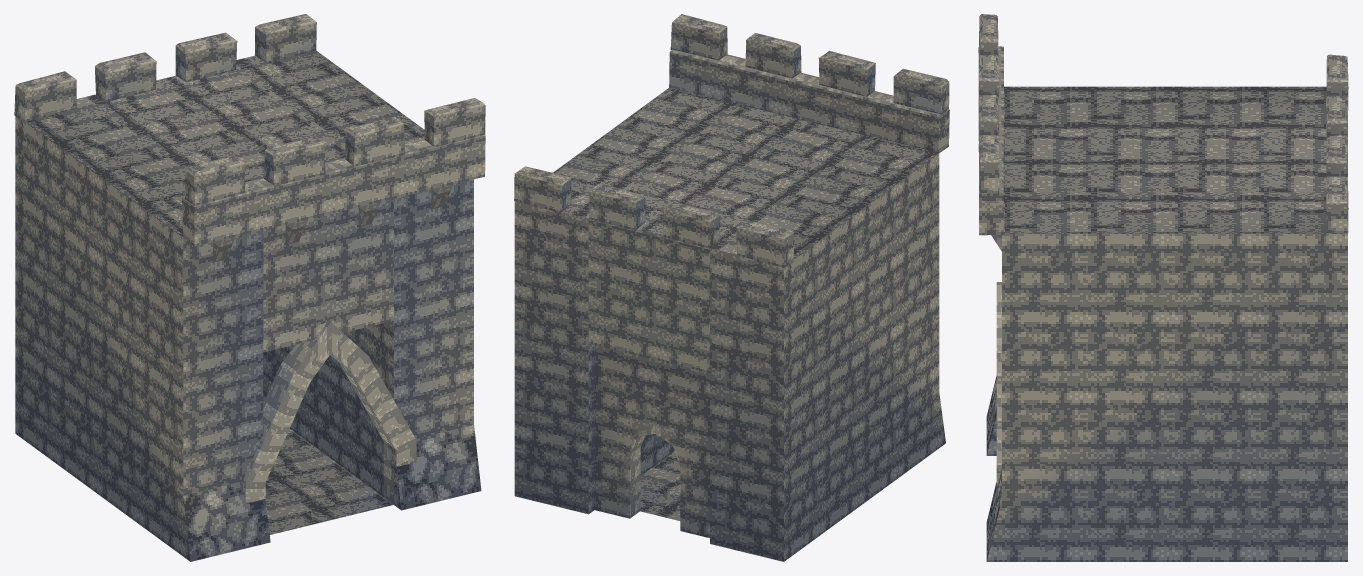
The model's file is cst.gatehouse__deep.glb.
3 renders of one model, left to right at view 1: azimuth 30°, elevation 25°; view 2: azimuth 150°, elevation 25°; view 3: azimuth 270°, elevation 25°, orthographic. The views are drawn at different scales.
Parts seen in each view (by area): view 1: kit_block, kit_top, kit_detail, kit_shell_passage_floor; view 2: kit_block, kit_top, kit_shell_passage_floor, kit_detail; view 3: kit_block, kit_top, kit_detail.
Part boxes in pixels (<box>): kit_block: <box>15,50,481,561</box>; kit_top: <box>14,14,485,246</box>; kit_detail: <box>213,184,453,505</box>; kit_shell_passage_floor: <box>265,428,393,534</box>; kit_block: <box>514,87,945,561</box>; kit_top: <box>514,14,949,267</box>; kit_shell_passage_floor: <box>640,451,680,520</box>; kit_detail: <box>620,422,690,529</box>; kit_block: <box>986,86,1347,561</box>; kit_top: <box>978,14,1348,235</box>; kit_detail: <box>991,235,1001,489</box>.
Size of the model in its own units: 8.04 by 10.3 by 8.56.
5 materials, 5 textured.
